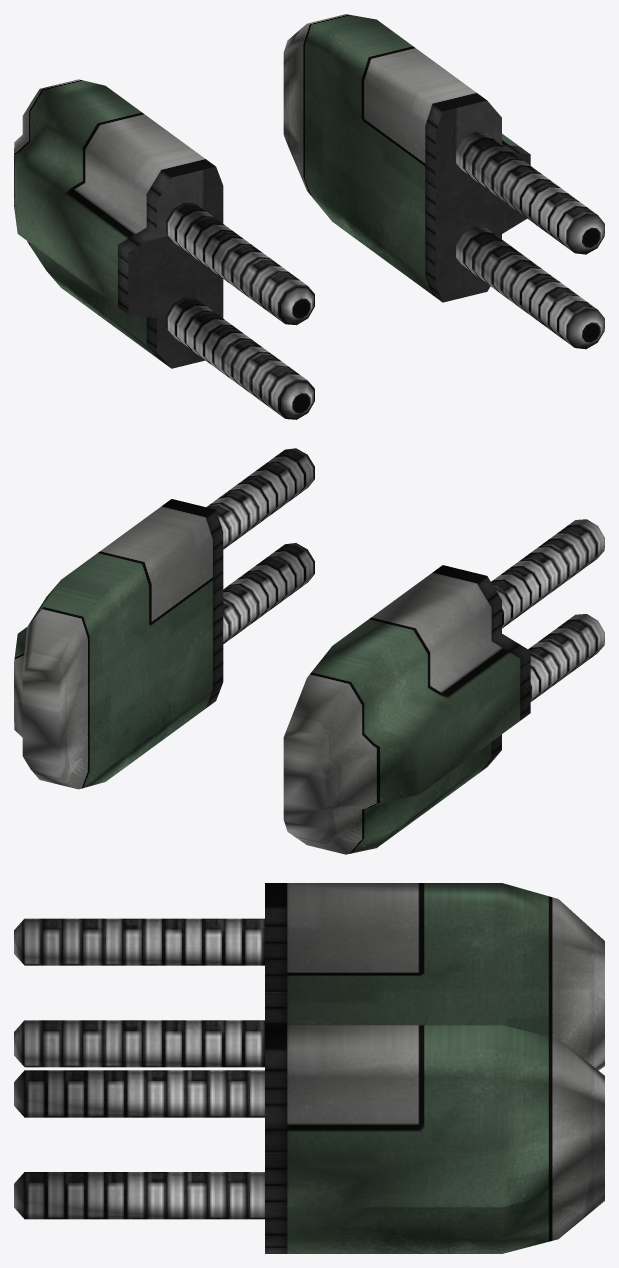
File: QuadAAAGuns.fbx
3 renders of one model, top to bottom at view 1: azimuth 30°, elevation 25°; view 2: azimuth 150°, elevation 25°; view 3: azimuth 270°, elevation 25°, orthographic. The views are drawn at different scales.
Visible parts, largest first — view 1: QuadAAAGuns; view 2: QuadAAAGuns; view 3: QuadAAAGuns.
Boxes of the visible parts, x1,y1,x2,y2 form: QuadAAAGuns: (14, 14, 604, 419); QuadAAAGuns: (14, 448, 604, 854); QuadAAAGuns: (14, 883, 604, 1253).
Bounding box in the file's own units: 81.76 × 37.14 × 96.84.
